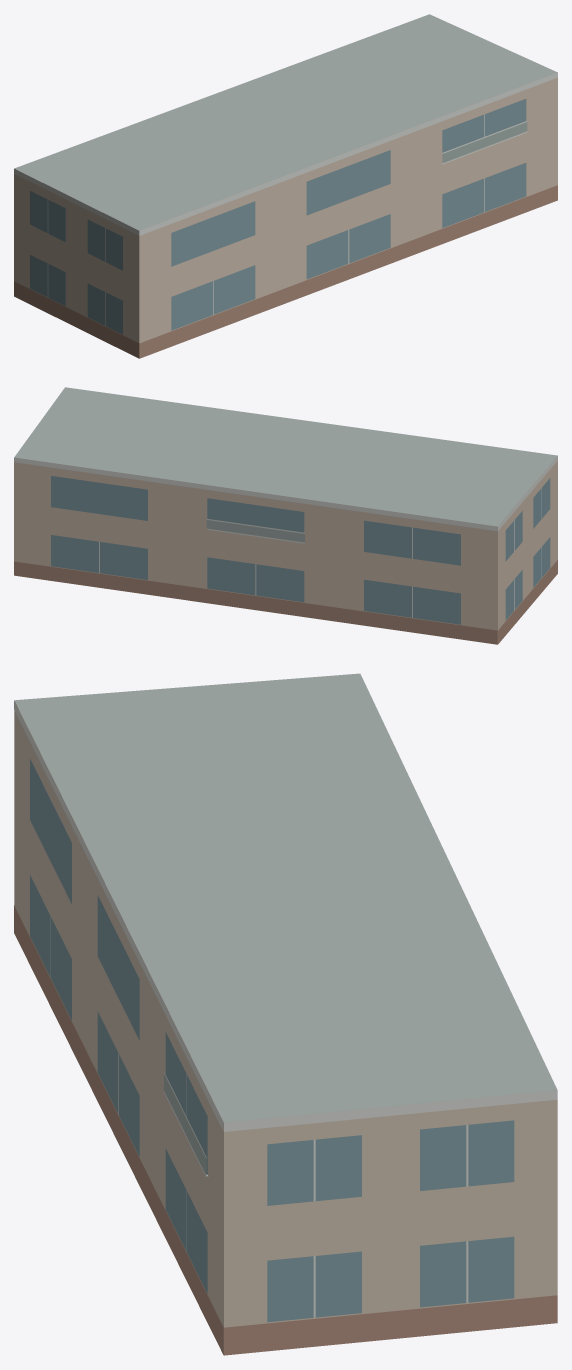
Rendered from survey-upis-32687176.glb.
The picture shows the model from 3 angles, top to bottom: view 1: azimuth 30°, elevation 25°; view 2: azimuth 150°, elevation 25°; view 3: azimuth 270°, elevation 25°; orthographic projection. The views are drawn at different scales.
Visible parts, largest first — view 1: survey-upis-32687176.tmp; view 2: survey-upis-32687176.tmp; view 3: survey-upis-32687176.tmp.
Part boxes in pixels (x1,y1,x2,y2): survey-upis-32687176.tmp: [14, 14, 557, 358]; survey-upis-32687176.tmp: [14, 387, 557, 644]; survey-upis-32687176.tmp: [14, 673, 557, 1355].
Size of the model in its own units: 25.27 by 6.1 by 12.93.
